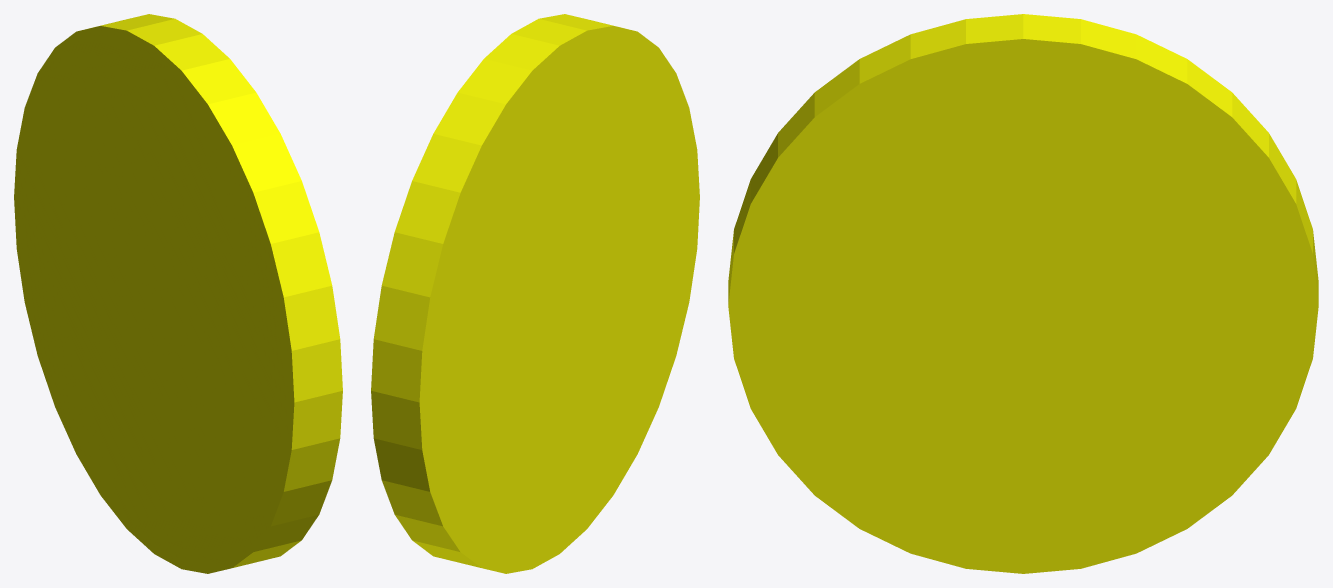
Rendered from koin.obj.
3 views of the same model, side by side, from view 1: azimuth 30°, elevation 25°; view 2: azimuth 150°, elevation 25°; view 3: azimuth 270°, elevation 25° (orthographic). The views are drawn at different scales.
Visible parts, largest first — view 1: 円柱; view 2: 円柱; view 3: 円柱.
Part boxes in pixels (x1=…): 円柱: x1=14, y1=14, x2=342, y2=573; 円柱: x1=371, y1=14, x2=699, y2=573; 円柱: x1=728, y1=14, x2=1318, y2=573.
Bounding box in the file's own units: 0.1 × 1 × 1.
1 material, 1 textured.
